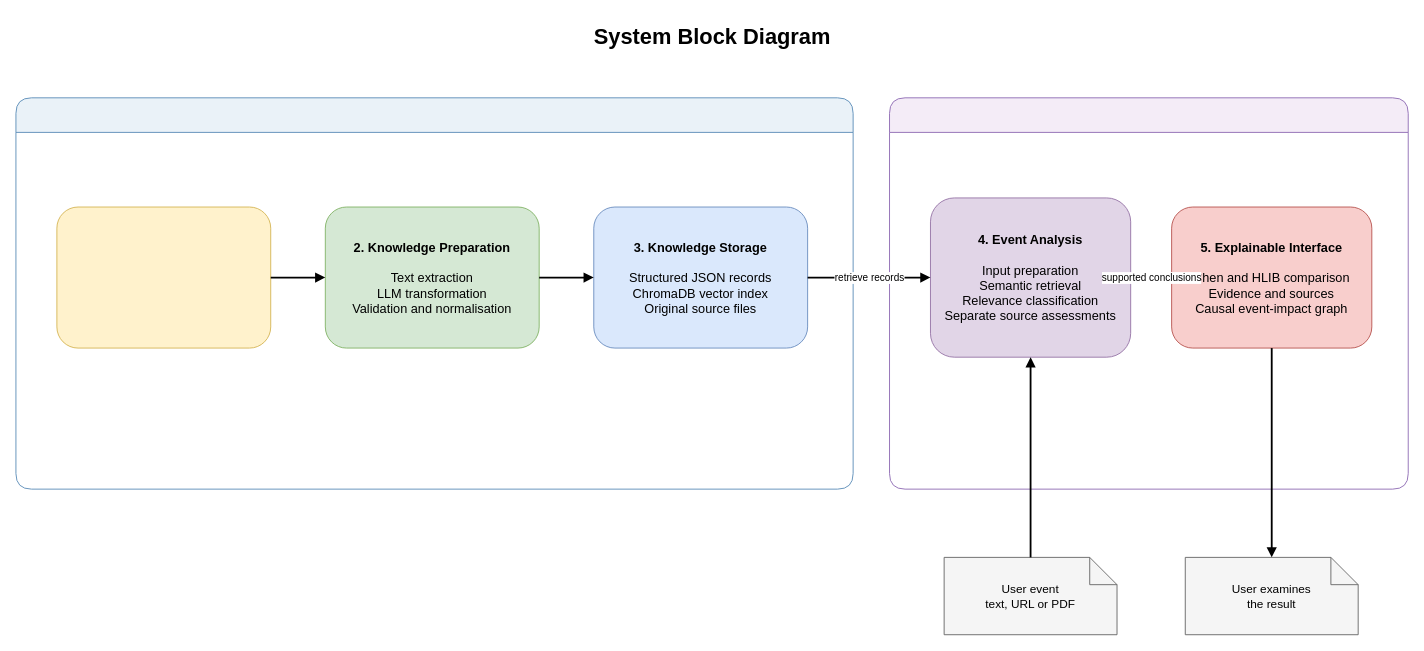
This 1424x651 diagram has some shape labels left out. The shapes that lost their labels are listed below. From the top down, each one's box as (x1, y1, x2, y2) in pixels, then its label:
(56, 206, 271, 348): 1. Data Sources Alfred Chen YouTube videos HLIB Research PDF reports
(15, 97, 853, 489): OFFLINE KNOWLEDGE PREPARATION
(889, 97, 1408, 489): ONLINE EVENT ANALYSIS
